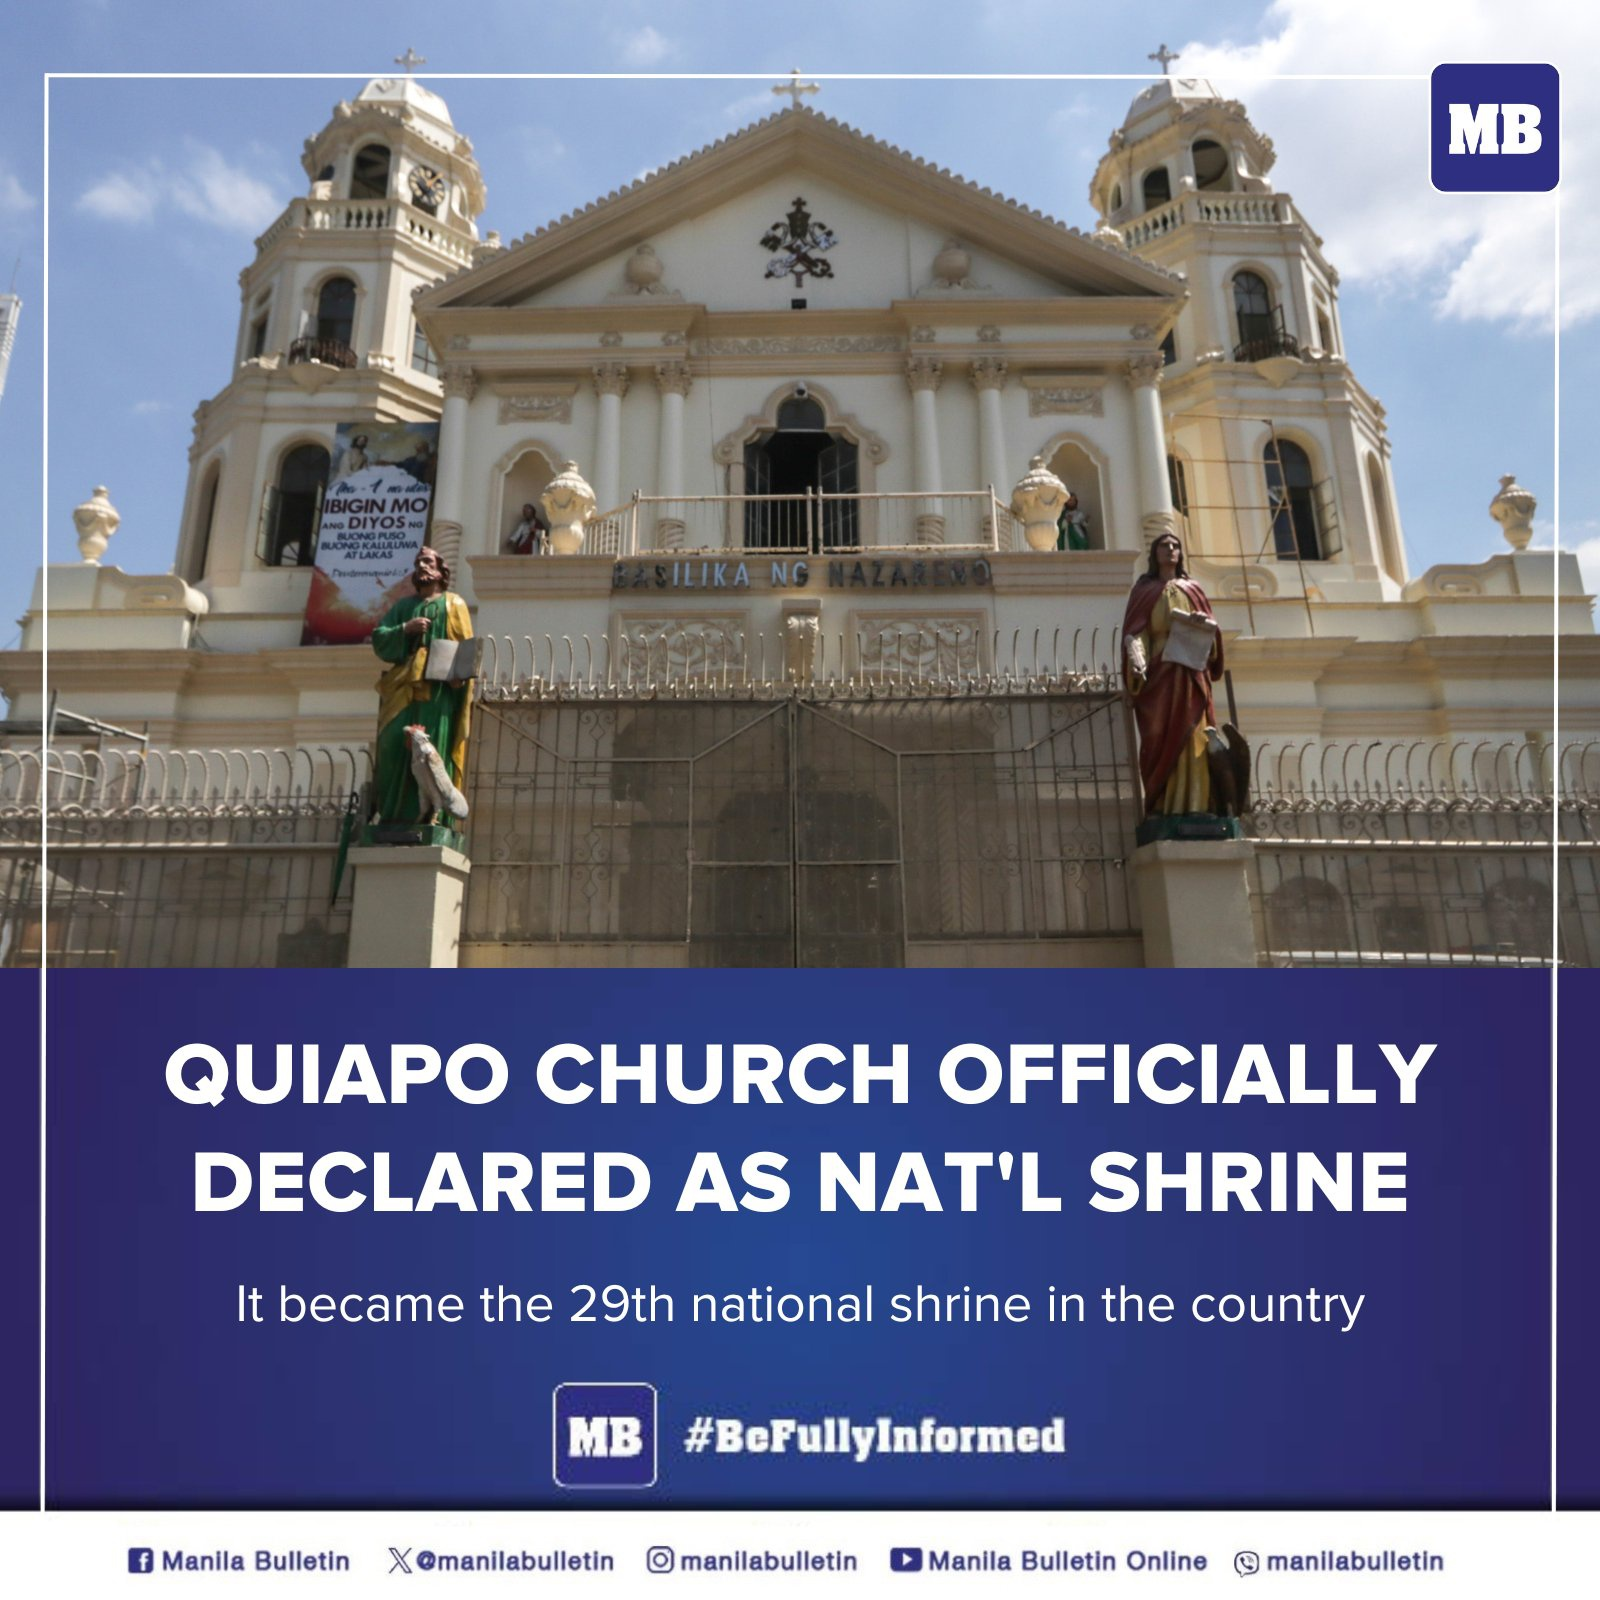quiapo_church_quiapo_manila: (185, 37, 1432, 971)
